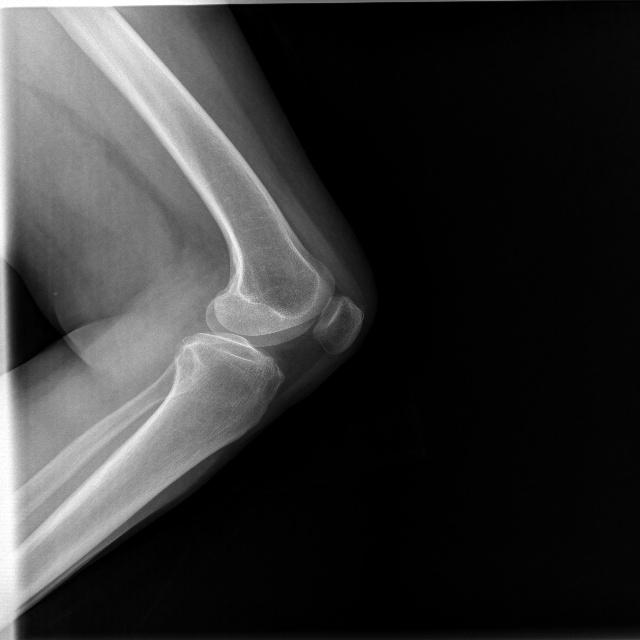Knee: (171, 273, 366, 410)
